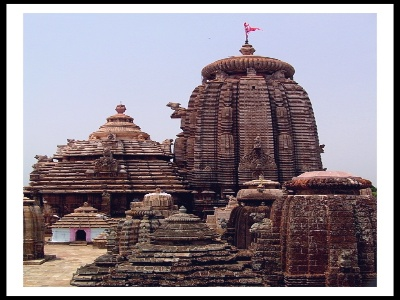amalaka: (197, 55, 303, 83)
gopuram: (163, 75, 338, 176)
